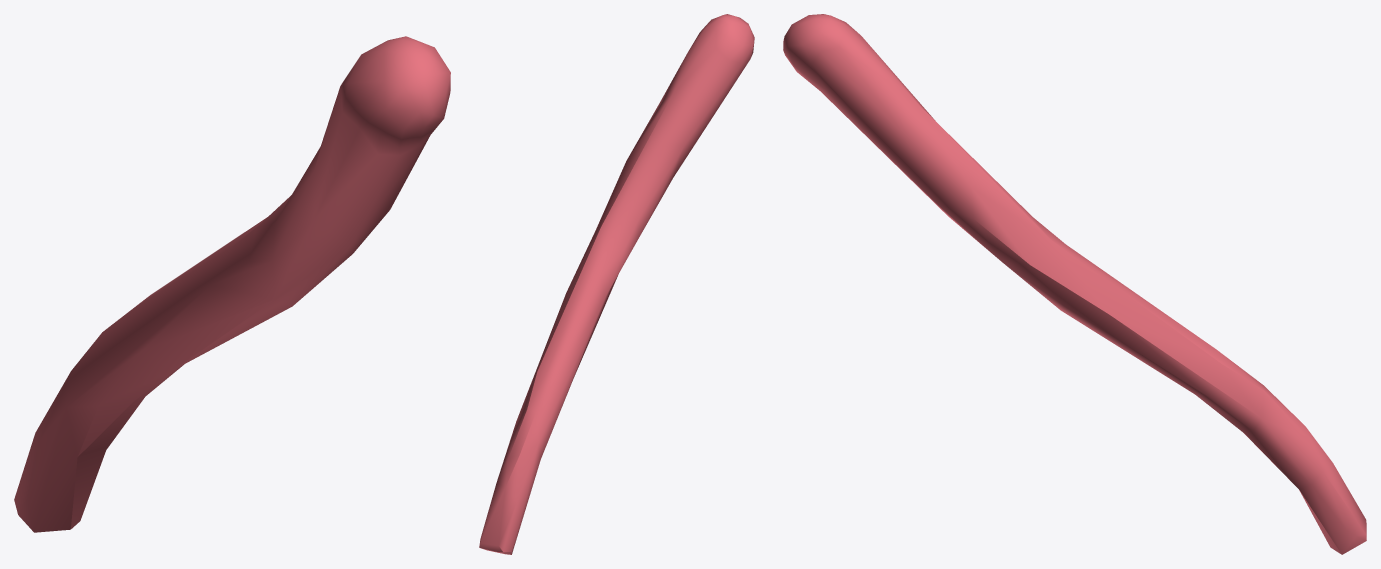
The model's file is fma18888_fj3469.glb.
The picture shows the model from 3 angles, left to right: view 1: azimuth 30°, elevation 25°; view 2: azimuth 150°, elevation 25°; view 3: azimuth 270°, elevation 25°; orthographic projection. The views are drawn at different scales.
Parts seen in each view (by area): view 1: FMA18888_FJ3469; view 2: FMA18888_FJ3469; view 3: FMA18888_FJ3469.
Boxes of the visible parts, x1,y1,x2,y2 form: FMA18888_FJ3469: [14, 36, 450, 532]; FMA18888_FJ3469: [479, 14, 754, 554]; FMA18888_FJ3469: [783, 14, 1366, 554].
Size of the model in its own units: 0.0115 by 0.0585 by 0.0601.
